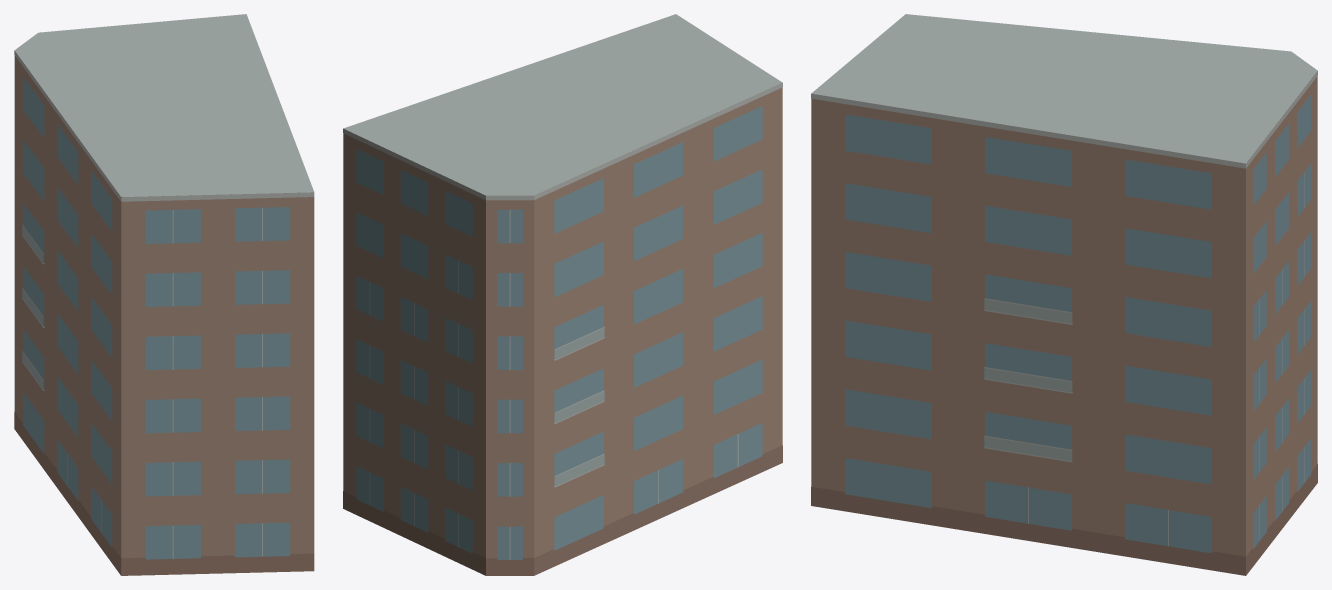
The model's file is survey-upis-32480477.glb.
The picture shows the model from 3 angles, left to right: view 1: azimuth 30°, elevation 25°; view 2: azimuth 150°, elevation 25°; view 3: azimuth 270°, elevation 25°; orthographic projection. The views are drawn at different scales.
Parts seen in each view (by area): view 1: survey-upis-32480477.tmp; view 2: survey-upis-32480477.tmp; view 3: survey-upis-32480477.tmp.
Part boxes in pixels (bbox=[...]): survey-upis-32480477.tmp: bbox=[14, 14, 314, 575]; survey-upis-32480477.tmp: bbox=[343, 14, 782, 575]; survey-upis-32480477.tmp: bbox=[811, 14, 1317, 575].
Bounding box in the file's own units: 15.56 × 19.98 × 22.26.
